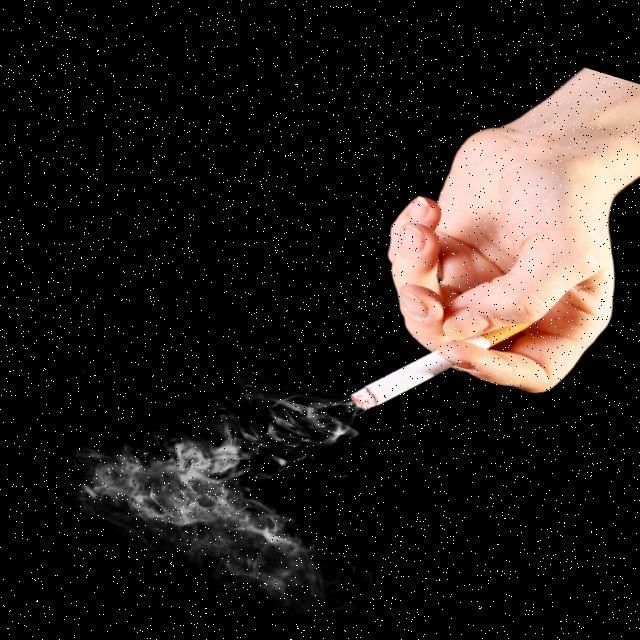cigarette: (323, 318, 458, 434)
